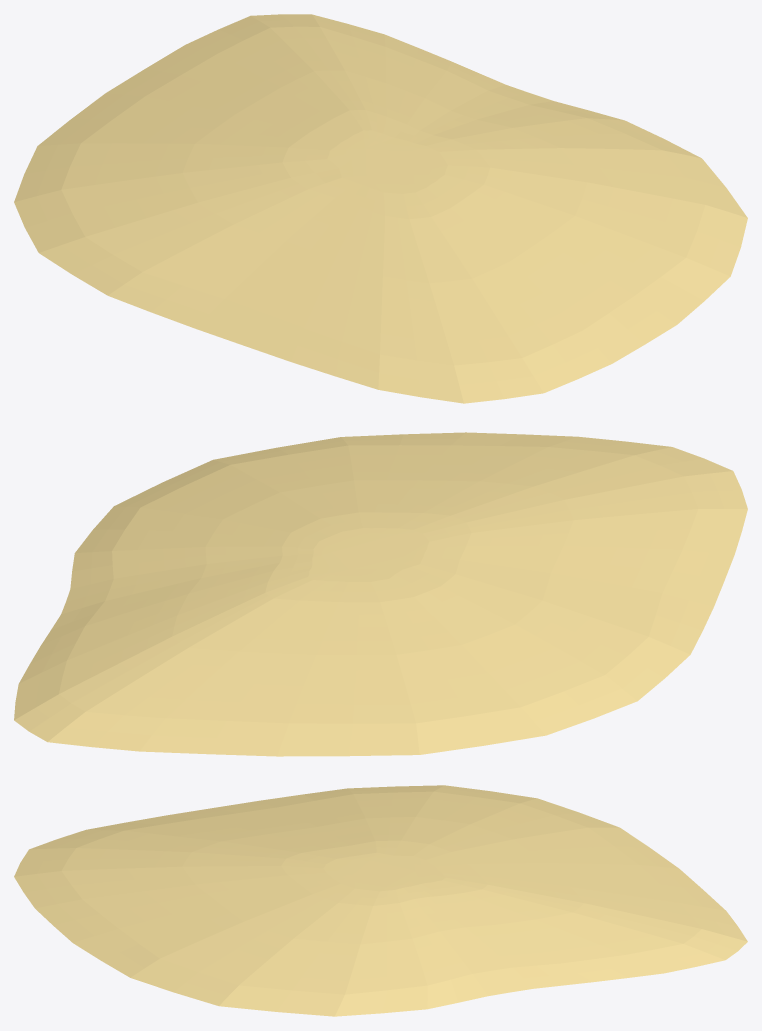
File: island-01-v2.fbx
The picture shows the model from 3 angles, top to bottom: view 1: azimuth 30°, elevation 25°; view 2: azimuth 150°, elevation 25°; view 3: azimuth 270°, elevation 25°; orthographic projection. The views are drawn at different scales.
Visible parts, largest first — view 1: Cube; view 2: Cube; view 3: Cube.
Boxes of the visible parts, box(x1,y1,x2,y2) form: Cube: box(14, 14, 747, 403); Cube: box(14, 432, 747, 756); Cube: box(14, 785, 747, 1016).
Bounding box in the file's own units: 3226 × 223 × 4325.
